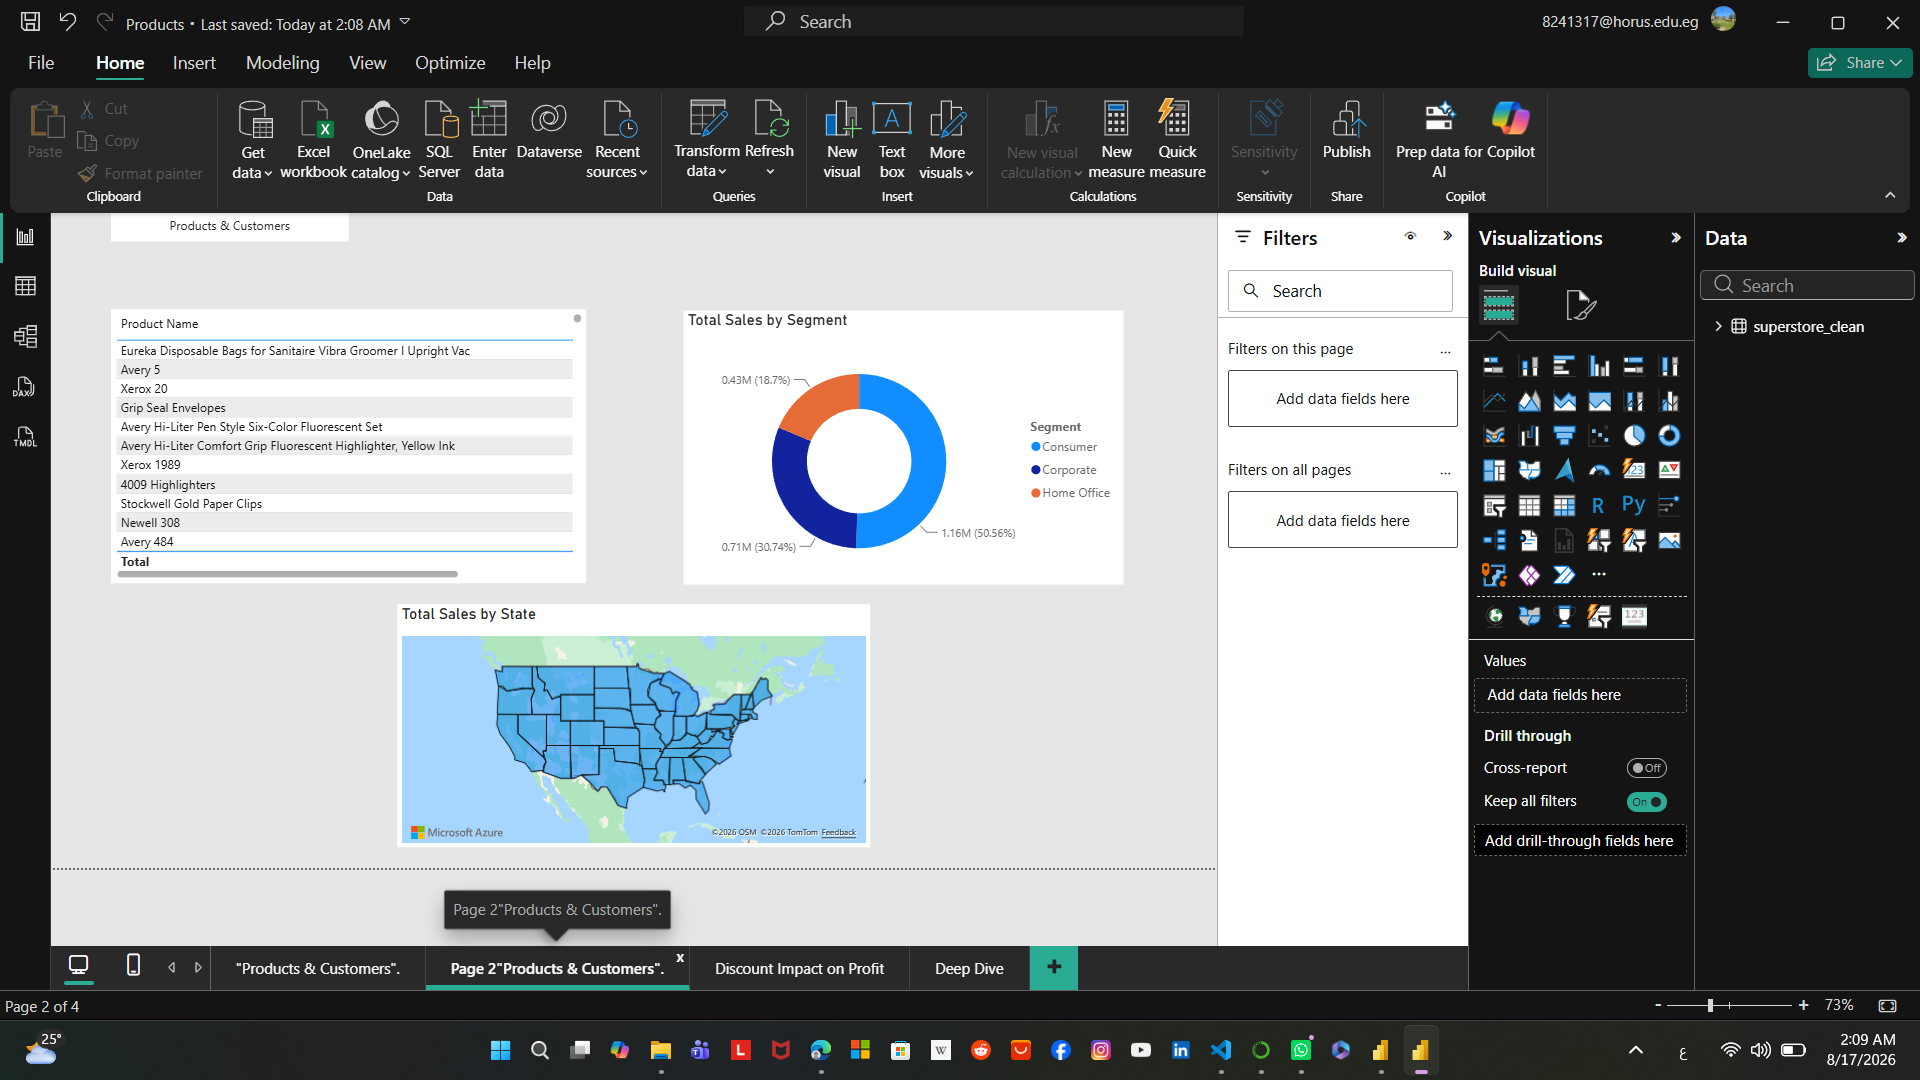

The page's visual inventory and layout, read from the dashboard file:
{"tool":"powerbi","page":{"name":"Page 2\"Products & Customers\".","canvas":[1280,720],"ordinal":1},"visuals":[{"type":"tableEx","fields":{"Values":["superstore_clean.Product Name","superstore_clean.Total Sales","superstore_clean.Total Profit"]},"box":[65.9,105.7,521.4,300.5],"z":0},{"type":"donutChart","fields":{"Category":["superstore_clean.Segment"],"Y":["superstore_clean.Total Sales"]},"box":[694.3,107,483,300.5],"z":1},{"type":"azureMap","fields":{"Category":["superstore_clean.State"]},"box":[380.1,429.5,518.7,266.2],"z":2},{"type":"textbox","box":[65.9,0,260.7,31.6],"z":3}]}

Visuals, with their boxes on the page's 1280x720 design canvas (x1, y1, x2, y2). These are canvas units, not pixel positions in the 1920x1080 screenshot, which may show the page scaled, cropped or inside an application window:
tableEx - superstore_clean.Product Name x superstore_clean.Total Sales: pyautogui.locateOnScreen(66, 106, 587, 406)
donutChart - superstore_clean.Segment x superstore_clean.Total Sales: pyautogui.locateOnScreen(694, 107, 1177, 408)
azureMap - superstore_clean.State: pyautogui.locateOnScreen(380, 430, 899, 696)
textbox: pyautogui.locateOnScreen(66, 0, 327, 32)
